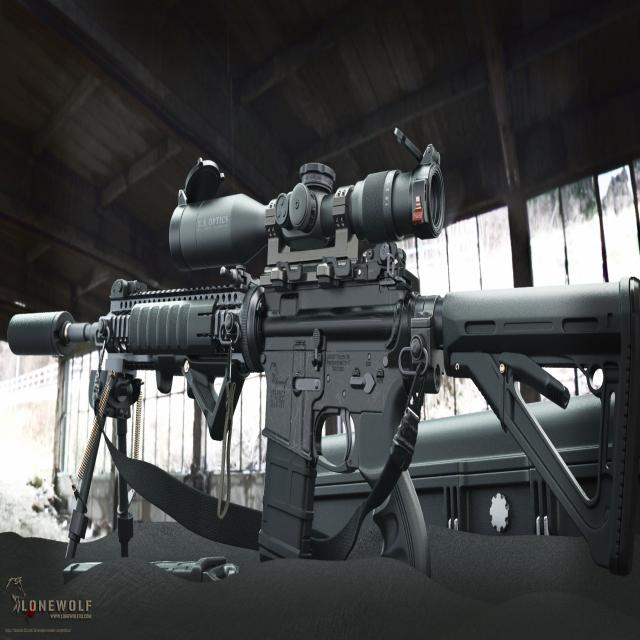Rifle: (7, 145, 640, 578)
